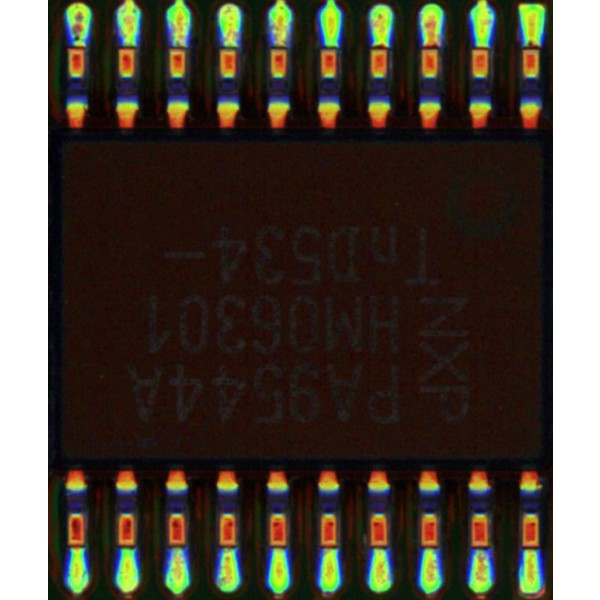Bad_podu: (526, 28, 537, 62), (425, 32, 437, 60)
